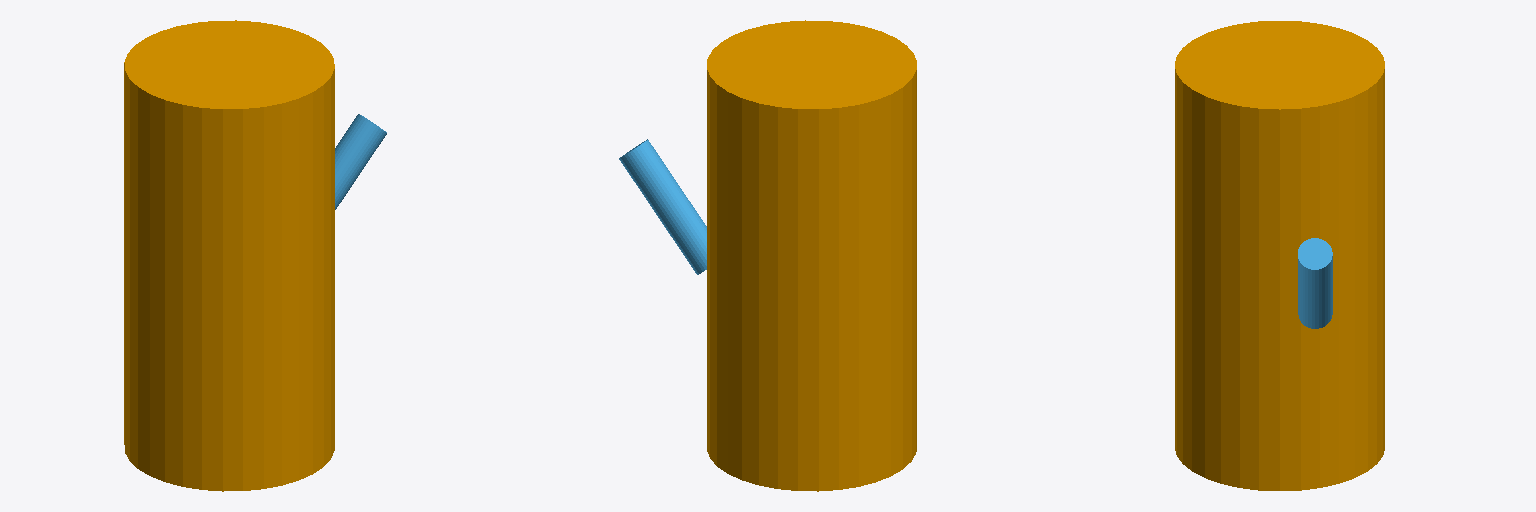
URDF robot description (wood):
<?xml version="1.0" ?>

<robot name="wood">

    <link name="wood">
      <visual>
	<origin xyz="0 0 0" rpy="0 0 0" />
	<geometry> <cylinder length="0.3" radius="0.075"/> </geometry>
      </visual>
      <collision>
	<origin xyz="0 0 0" rpy="0 0 0" />
	<geometry> <cylinder length="0.3" radius="0.075"/> </geometry>
      </collision>
      <inertial>
	<origin xyz="0 0 0" rpy="0 0 0" />
	<mass value="3.3" />
	<inertia ixx="0.022" ixy="0" ixz="0" iyy="0.022" iyz="0" izz="0.022" />
      </inertial>
    </link>
    <gazebo reference="wood"> <material>Gazebo/Tree1</material> </gazebo>

    <joint name="tail_joint" type="fixed">
        <parent link="wood"/>
        <child link="br"/>
        <origin xyz= "0.1 0.025 0.025" rpy="0 0.7 0" />
    </joint>

    <link name="br">
        <visual>
            <origin xyz="0 0 0" rpy="0 0 0"/>
            <geometry> <cylinder length="0.1" radius="0.0125"/> </geometry>
        </visual>
        <collision>
            <origin xyz="0 0 0" rpy="0 0 0"/>
            <geometry> <cylinder length="0.1" radius="0.0125"/> </geometry>
        </collision>
        <inertial>
            <origin xyz="0 0 0" rpy="0 0 0"/> <mass value="0.01"/>
            <inertia ixx="1e-4" ixy="0" ixz="0" iyy="1e-4" iyz="0" izz="1e-4"/>
        </inertial>
    </link>

    <gazebo reference="br"> <material>Gazebo/Tree1</material> </gazebo>
    
</robot>

--- What the picture shows (computed from the rendered views, not written in the file) ---
Views: 3 orthographic renders of the robot side by side, from view 1: azimuth 30°, elevation 25°; view 2: azimuth 150°, elevation 25°; view 3: azimuth 270°, elevation 25°.
Model wood with 2 links and 1 joints (1 fixed), rooted at wood, posed every joint at zero.
Visible links, largest first — view 1: wood, br; view 2: wood, br; view 3: wood, br.
Boxes of the visible links, box(x1,y1,x2,y2) form: wood: box(124, 20, 334, 491); br: box(335, 114, 386, 209); wood: box(707, 20, 916, 491); br: box(619, 139, 706, 274); wood: box(1175, 21, 1384, 490); br: box(1298, 238, 1332, 328).
Size in the robot's own frame: 0.2168 by 0.15 by 0.3 metres.
Geometry: primitives only (box / cylinder / sphere), no mesh files.
